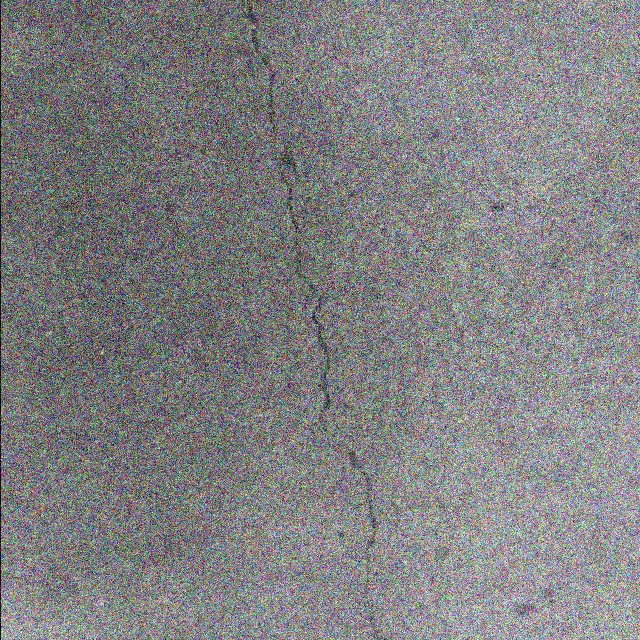SurfaceCrack: (220, 0, 418, 640)
